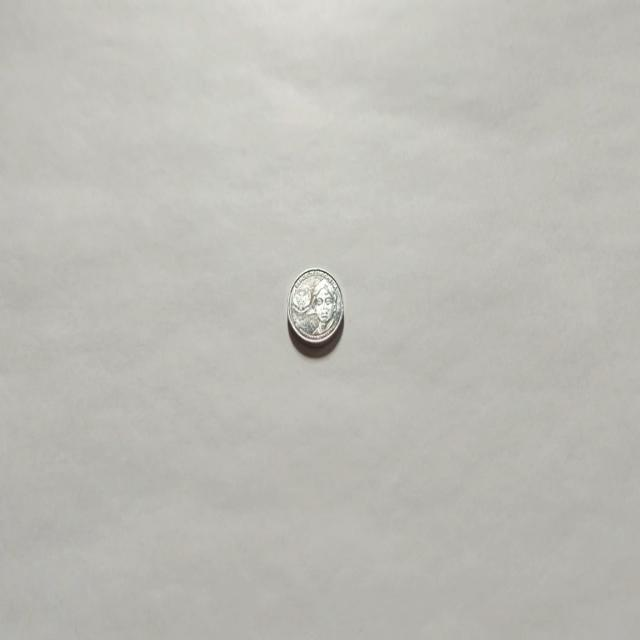dua ratus rupiah: (286, 266, 344, 348)
